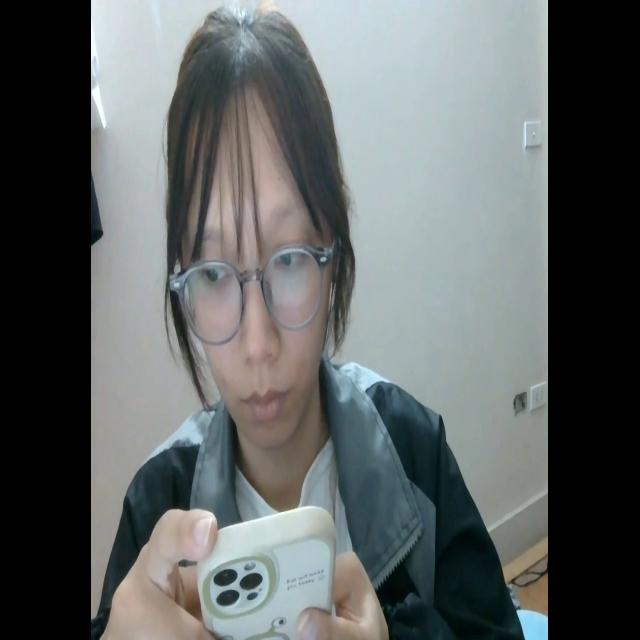phone: (190, 499, 336, 640)
student: (102, 14, 519, 640)
